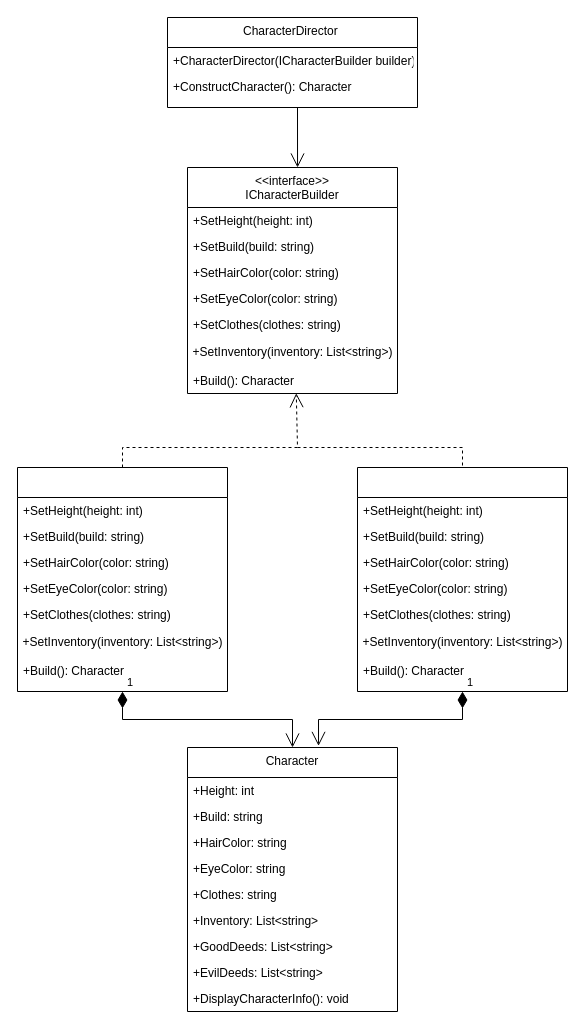
The diagram is 585 pixels wide and 1032 high, and some of its shapes have lost their labels. The box of each missing label's shape, as (x1, y1, x2, y2) in pixels:
EnemyBuilder: (356, 466, 568, 692)
HeroBuilder: (16, 466, 228, 692)
